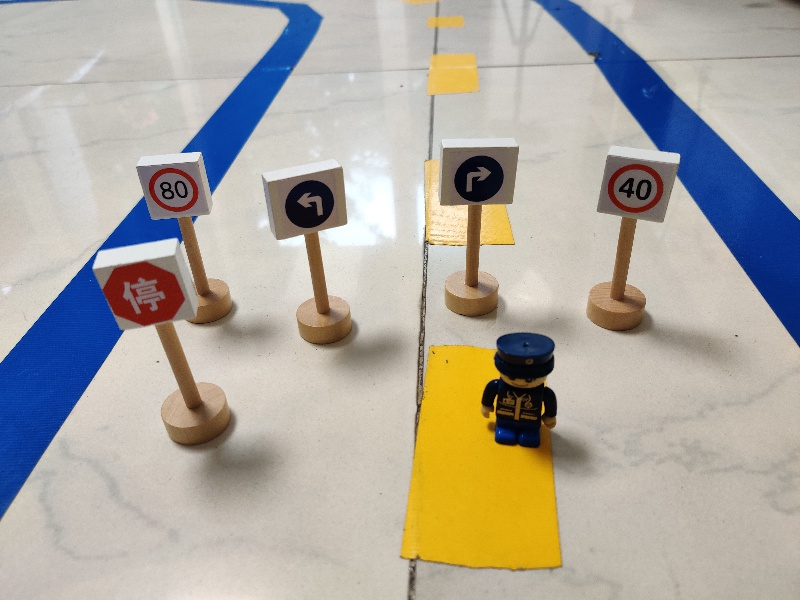limit_40: (597, 140, 682, 223)
limit_80: (133, 153, 216, 222)
person: (476, 329, 561, 453)
stop: (93, 238, 199, 332)
turn_left: (255, 158, 347, 241)
turn_right: (435, 137, 522, 207)
